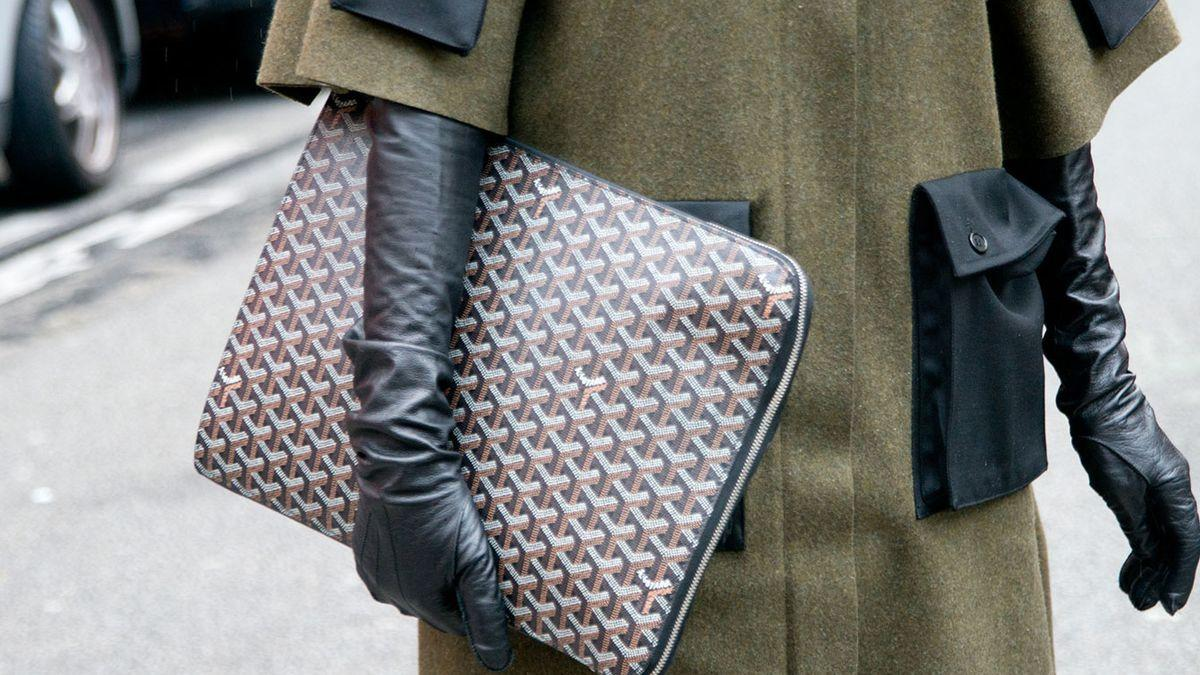GOYARD: (193, 91, 796, 675)
